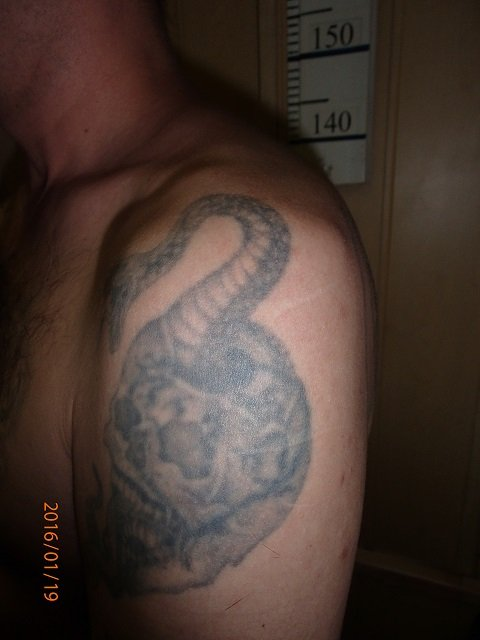tatu7_zmeya: (74, 170, 301, 544)
